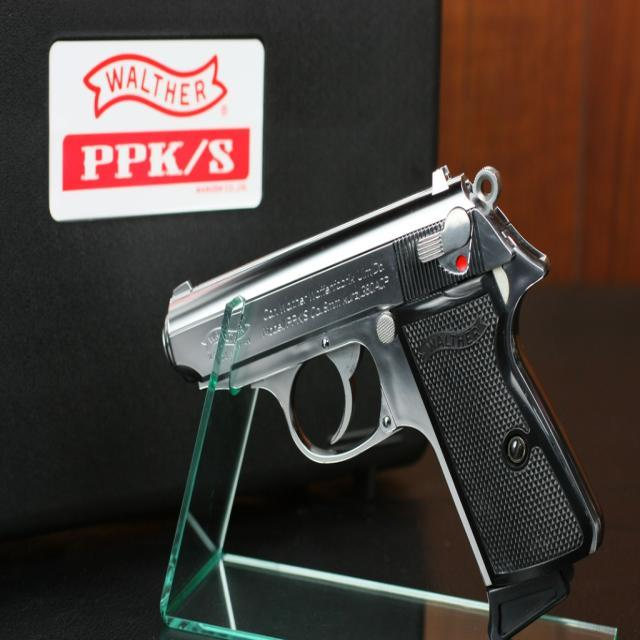Gun: (164, 168, 601, 639)
